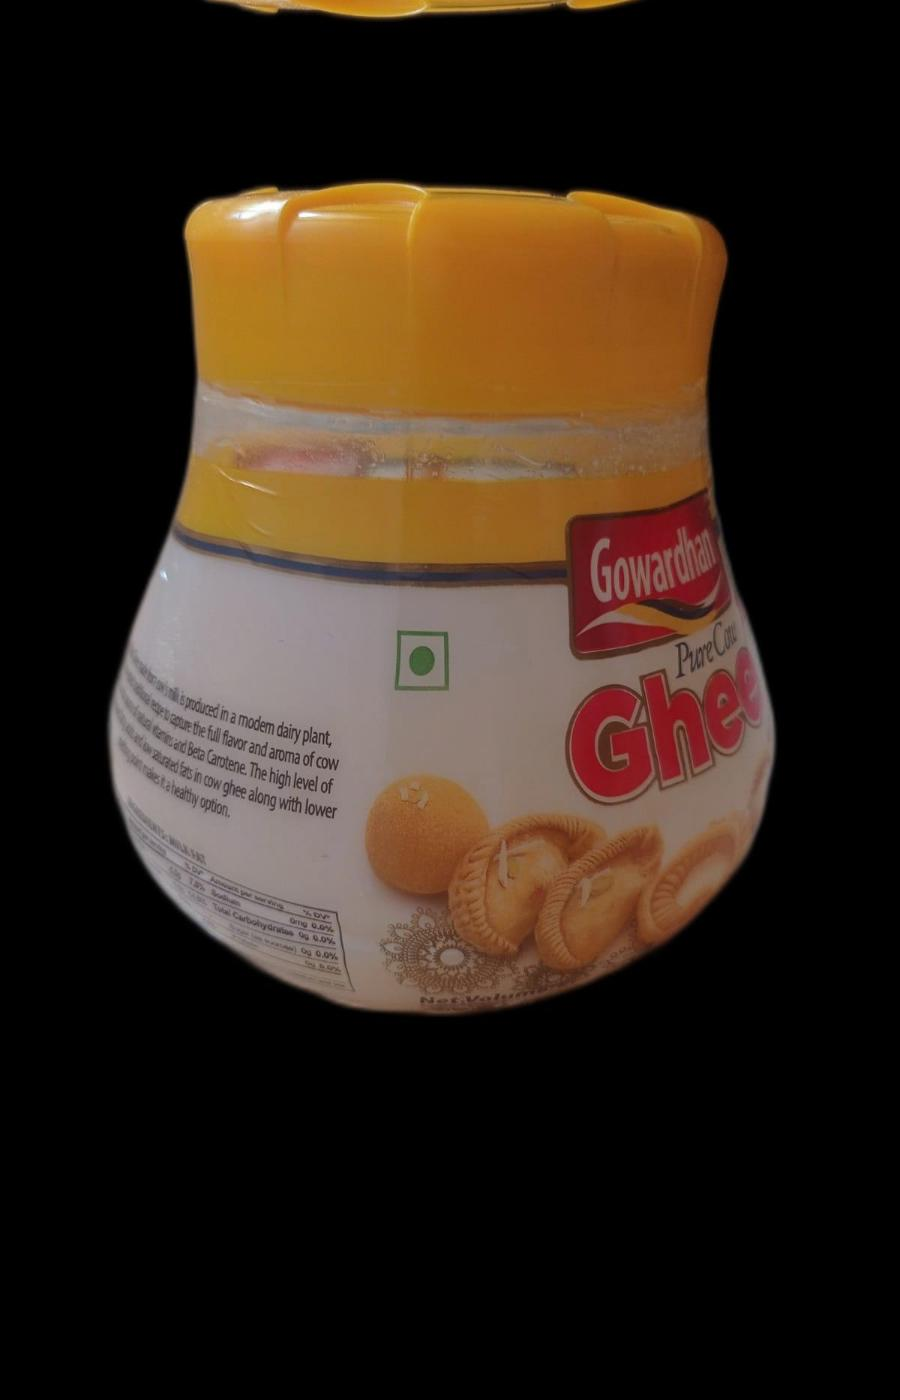Govardhan Pure cow Ghee -1kg-: (109, 176, 793, 1014)
